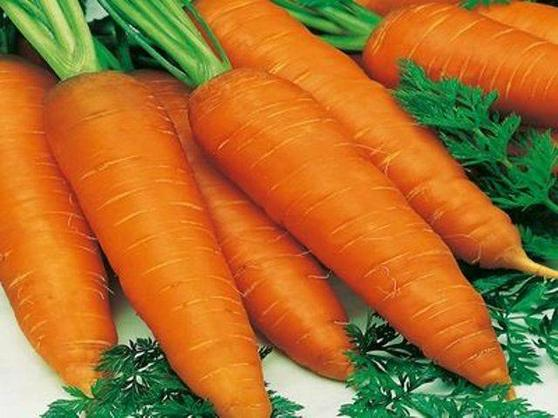carrot: (42, 73, 277, 414)
